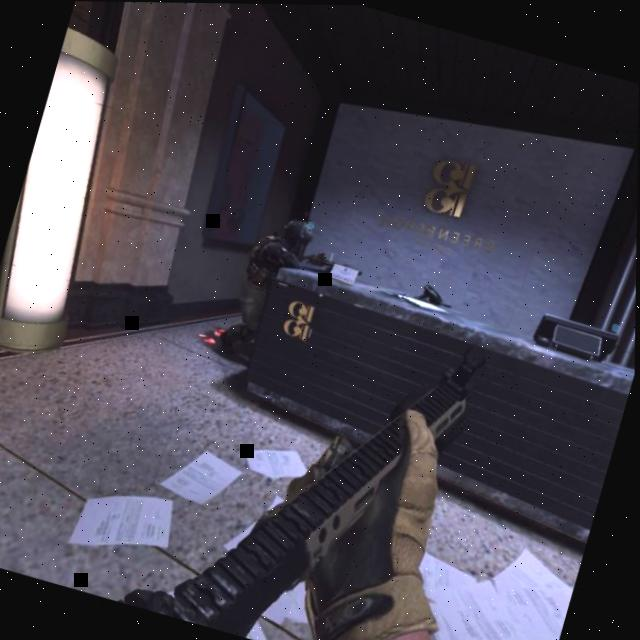MW2_body: (213, 207, 315, 373)
